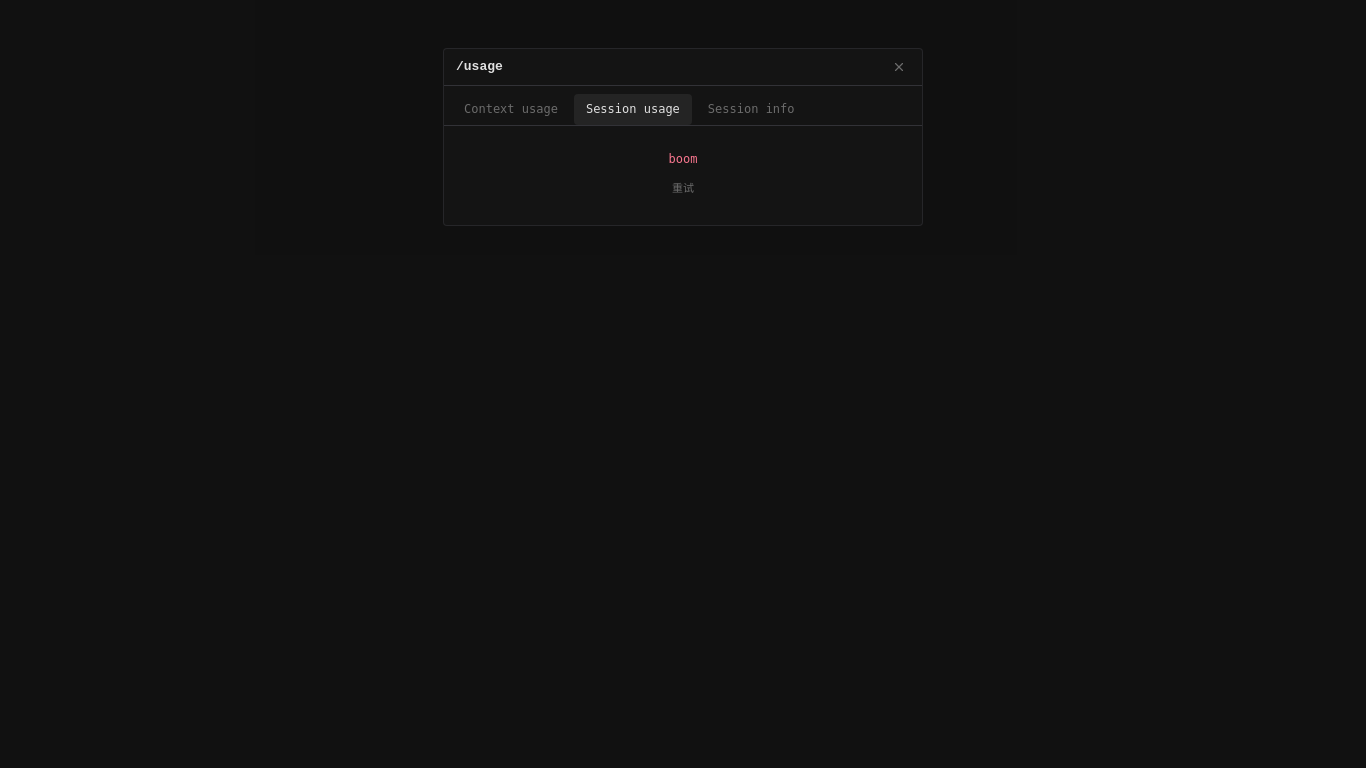
Test: SessionUsageModal › 请求失败 → 错误 + 重试成功
The width and height of the screenshot is (1366, 768).
Check: the text "boom" is shown, box [668,152,697,166]
Click the button "重试".
click(683, 189)  # box [660,176,706,201]
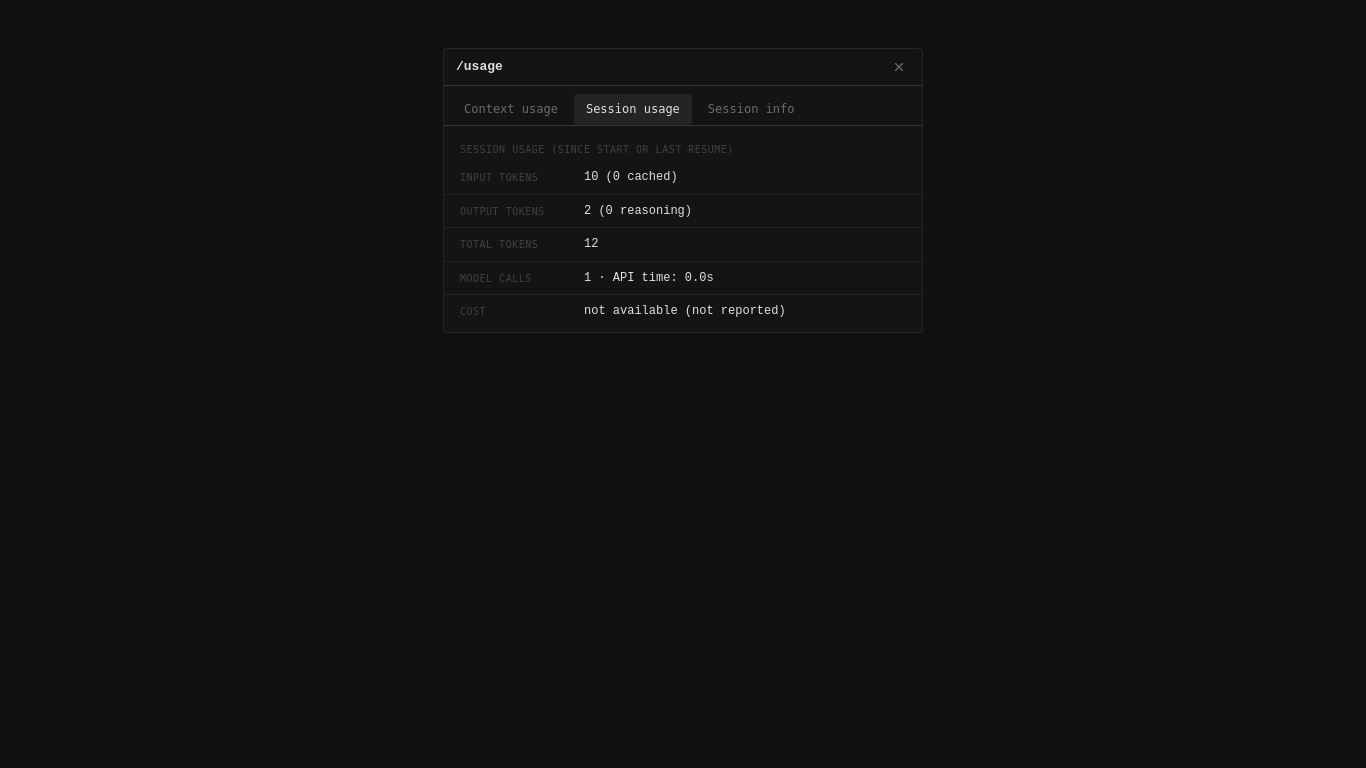
Check: the text "10 (0 cached)" is shown, box [584,170,678,184]
